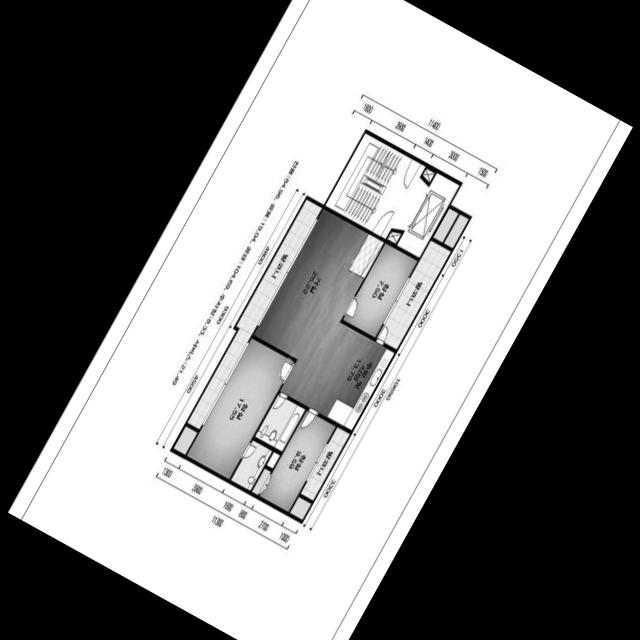background: (7, 0, 633, 640)
space_balconi: (187, 199, 322, 430), (376, 241, 451, 350), (300, 427, 350, 501)
space_bedroom: (186, 338, 293, 479), (251, 410, 336, 512), (342, 243, 417, 338)
space_elevator: (396, 173, 459, 258)
space_front: (348, 234, 384, 279)
space_kitchen: (296, 323, 394, 430)
space_living_room: (253, 209, 368, 400)
space_other: (443, 214, 468, 249), (433, 208, 458, 243), (173, 426, 197, 455), (289, 497, 311, 520), (266, 452, 280, 469), (422, 168, 435, 183), (387, 232, 401, 244)
space_staircase: (325, 133, 428, 239)
space_toilet: (254, 395, 305, 452), (230, 440, 272, 491)
